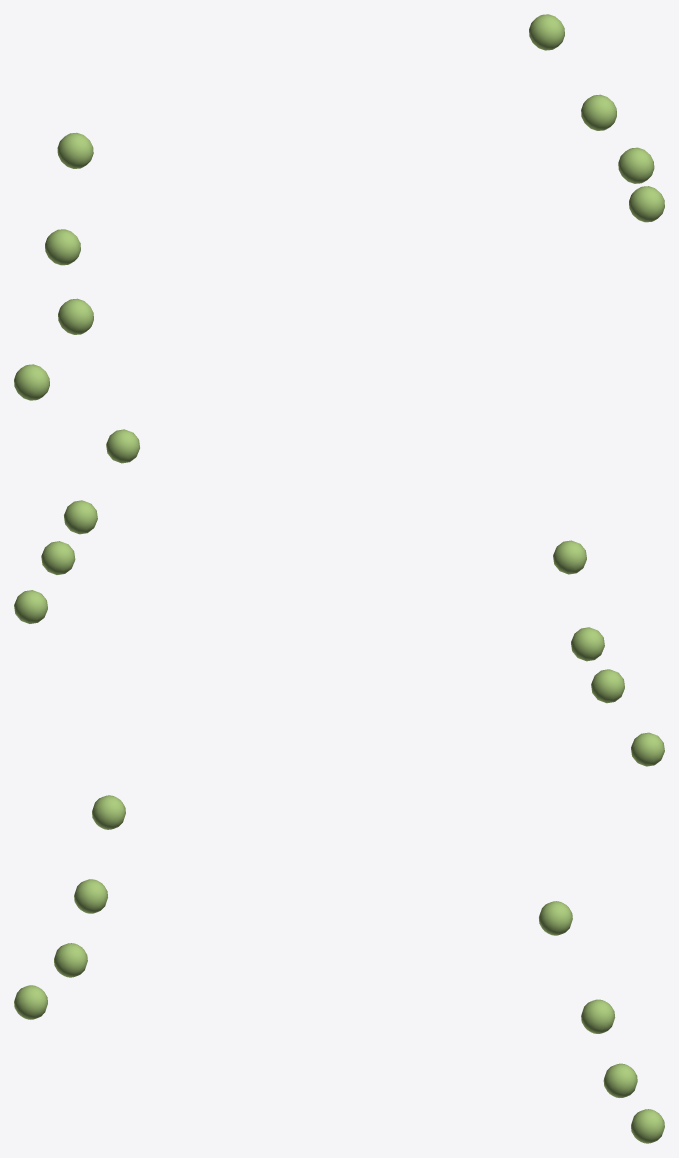
Rendered from lateral-common-iliac-nodes.glb.
The picture shows the model from 3 angles, top to bottom: view 1: azimuth 30°, elevation 25°; view 2: azimuth 150°, elevation 25°; view 3: azimuth 330°, elevation 25°; orthographic projection. The views are drawn at different scales.
Parts seen in each view (by area): view 1: Lateral common iliac nodes; view 2: Lateral common iliac nodes; view 3: Lateral common iliac nodes.
Part boxes in pixels (x1,y1,x2,y2): Lateral common iliac nodes: [14, 14, 664, 400]; Lateral common iliac nodes: [14, 429, 664, 766]; Lateral common iliac nodes: [14, 795, 664, 1143].
Size of the model in its own units: 0.0545 by 0.0186 by 0.00559.
